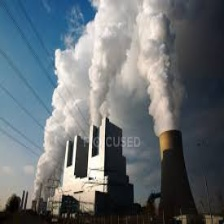smoke: (45, 1, 188, 129), (34, 130, 66, 204)
